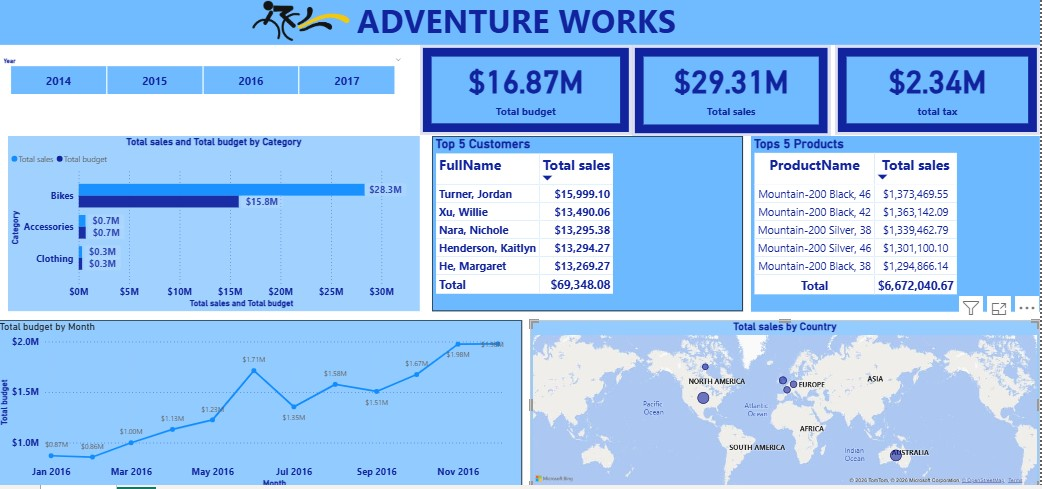

This screenshot's page, from the dashboard's own definition file:
{"tool":"powerbi","page":{"name":"Page 1","canvas":[1800,1000],"ordinal":0},"visuals":[{"type":"textbox","box":[0,0,1800,85.7],"z":0},{"type":"cardVisual","fields":{"Data":["Budget.Total budget"]},"box":[731,86.2,365.5,155.2],"z":1000},{"type":"cardVisual","fields":{"Data":["Sales.total tax"]},"box":[1446.9,85.7,353.1,155.1],"z":2000},{"type":"cardVisual","fields":{"Data":["Sales.Total sales"]},"box":[1095.9,85.7,342.9,157.1],"z":3000},{"type":"slicer","fields":{"Values":["Calendar.Year"]},"box":[0,101.6,711.1,76.2],"z":4000},{"type":"textbox","box":[384.8,574.7,272.2,305.1],"z":5000},{"type":"textbox","box":[465.3,561.2,383.7,293.9],"z":6000},{"type":"image","box":[394,5,254,81],"z":7000},{"type":"lineChart","fields":{"Y":["Budget.Total budget"],"Category":["Budget.Month"]},"box":[0,560.7,906.6,293.4],"z":8000},{"type":"tableEx","title":"Tops 5 Products","fields":{"Values":["Product.ProductName","Sales.Total sales"]},"box":[1301.7,243.1,498.3,303.4],"z":9000},{"type":"tableEx","title":"Top 5 Customers","fields":{"Values":["Customer.FullName","Sales.Total sales"]},"box":[751.7,243.1,536.2,301.7],"z":10000},{"type":"textbox","box":[0,854.1,1800,145.9],"z":11000},{"type":"clusteredBarChart","fields":{"Y":["Sales.Total sales","Budget.Total budget"],"Category":["Product.Category"]},"box":[20.7,243.1,710.3,301.7],"z":12000},{"type":"map","fields":{"Category":["Territories.Country"],"Size":["Sales.Total sales"]},"box":[920.7,560.3,879.3,293.1],"z":13000}]}

Visuals, with their boxes on the page's 1800x1000 design canvas (x1, y1, x2, y2). These are canvas units, not pixel positions in the 1042x489 screenshot, which may show the page scaled, cropped or inside an application window:
textbox: box=[0, 0, 1800, 86]
cardVisual - Budget.Total budget: box=[731, 86, 1096, 241]
cardVisual - Sales.total tax: box=[1447, 86, 1800, 241]
cardVisual - Sales.Total sales: box=[1096, 86, 1439, 243]
slicer - Calendar.Year: box=[0, 102, 711, 178]
textbox: box=[385, 575, 657, 880]
textbox: box=[465, 561, 849, 855]
image: box=[394, 5, 648, 86]
lineChart - Budget.Total budget x Budget.Month: box=[0, 561, 907, 854]
"Tops 5 Products" tableEx: box=[1302, 243, 1800, 546]
"Top 5 Customers" tableEx: box=[752, 243, 1288, 545]
textbox: box=[0, 854, 1800, 1000]
clusteredBarChart - Sales.Total sales x Budget.Total budget: box=[21, 243, 731, 545]
map - Territories.Country x Sales.Total sales: box=[921, 560, 1800, 853]
